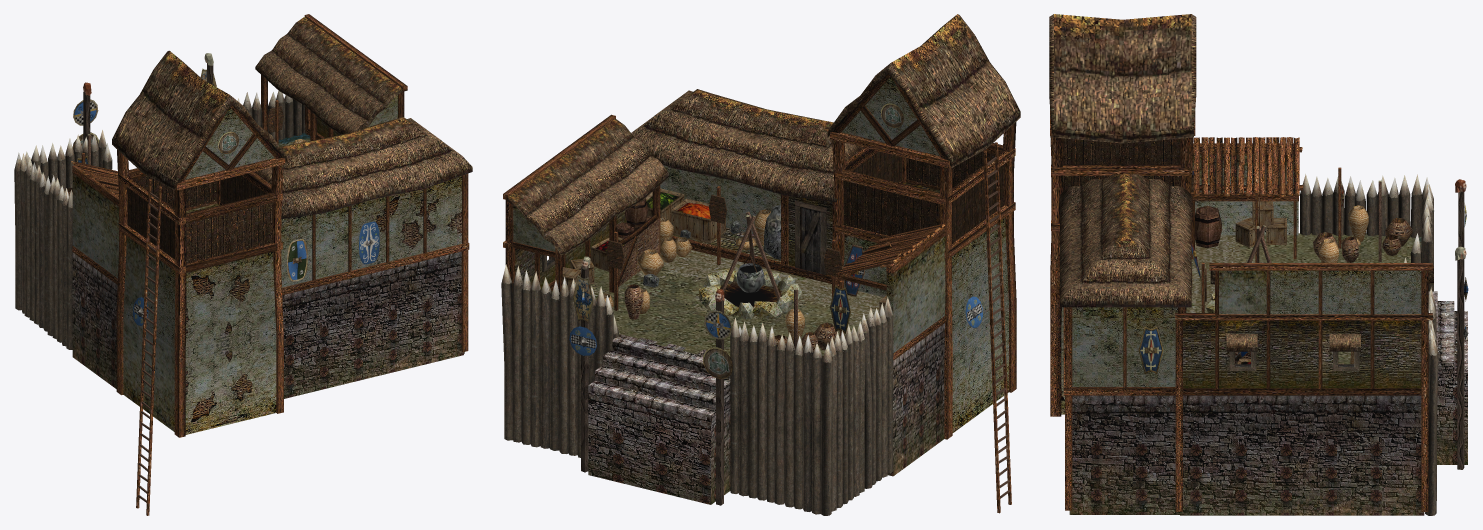
The model's file is brit_temple.glb.
3 views of the same model, side by side, from view 1: azimuth 30°, elevation 25°; view 2: azimuth 150°, elevation 25°; view 3: azimuth 270°, elevation 25° (orthographic). The views are drawn at different scales.
Visible parts, largest first — view 1: brit_temple_part0, brit_temple_part5, brit_temple_part2, brit_temple_part1, brit_temple_part3; view 2: brit_temple_part0, brit_temple_part2, brit_temple_part5, brit_temple_part3, brit_temple_part4, brit_temple_part1; view 3: brit_temple_part0, brit_temple_part5, brit_temple_part2, brit_temple_part3, brit_temple_part4, brit_temple_part1.
Boxes of the visible parts, x1,y1,x2,y2 form: brit_temple_part0: (50,14,472,515); brit_temple_part5: (72,251,464,398); brit_temple_part2: (14,90,305,349); brit_temple_part1: (72,53,379,325); brit_temple_part3: (64,131,340,502); brit_temple_part0: (503,14,1020,513); brit_temple_part2: (501,264,893,515); brit_temple_part5: (588,323,944,504); brit_temple_part3: (542,156,1009,498); brit_temple_part4: (551,250,883,356); brit_temple_part1: (569,103,982,505); brit_temple_part0: (1049,14,1433,511); brit_temple_part5: (1069,291,1467,515); brit_temple_part2: (1300,174,1438,515); brit_temple_part3: (1195,180,1381,370); brit_temple_part4: (1186,233,1421,364); brit_temple_part1: (1138,179,1468,469).
Bounding box in the file's own units: 4.98 × 6.23 × 5.
6 materials, 6 textured.
